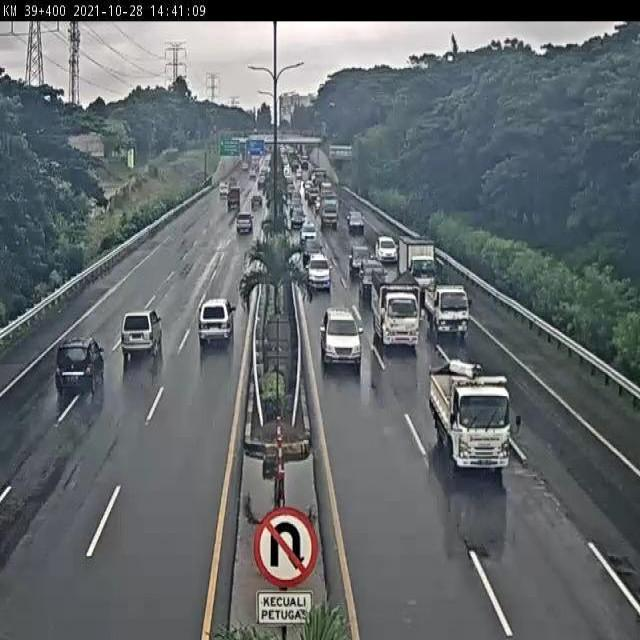car: (319, 307, 364, 369), (358, 256, 386, 296), (305, 252, 331, 291)
truck: (430, 363, 513, 475), (371, 270, 421, 350), (53, 337, 106, 395), (425, 281, 470, 339), (120, 308, 163, 361), (397, 234, 437, 290), (199, 297, 236, 348)
